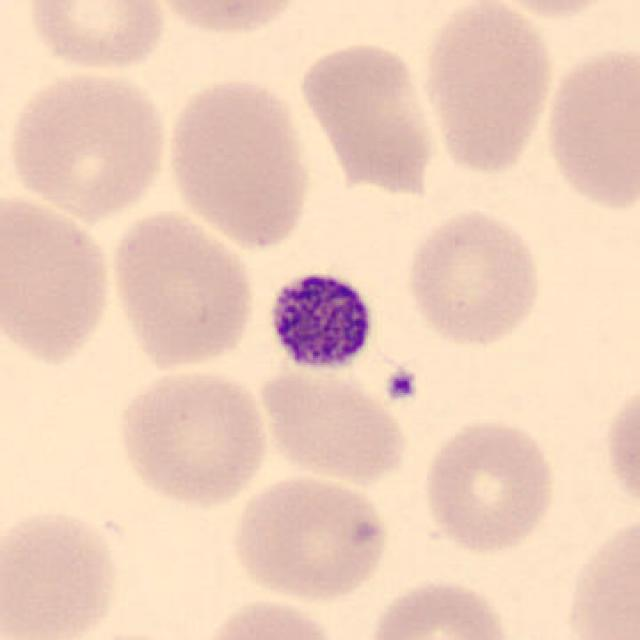Platelets: (260, 261, 382, 379), (382, 368, 422, 404)
RBC: (162, 72, 316, 250), (4, 65, 172, 222), (105, 206, 258, 374), (416, 0, 558, 178), (112, 363, 272, 510), (293, 37, 441, 194), (226, 470, 393, 604), (255, 352, 412, 487), (402, 204, 546, 351), (0, 188, 117, 368), (418, 413, 560, 557), (539, 39, 638, 213), (0, 502, 124, 639), (21, 0, 169, 74), (560, 511, 640, 640), (362, 575, 516, 640), (142, 0, 311, 41), (194, 594, 343, 640), (601, 376, 640, 520), (475, 0, 631, 21), (49, 627, 213, 640)
